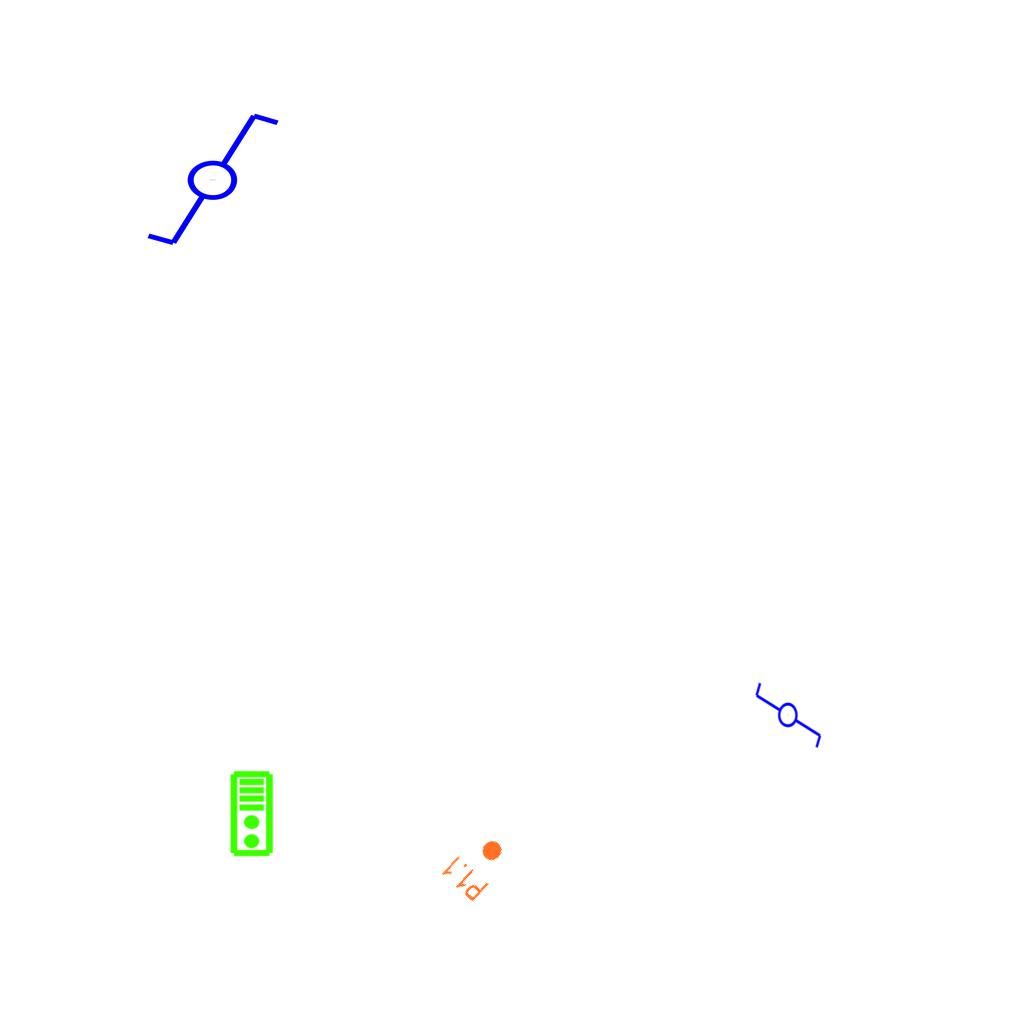Downlight_LED_Einbauleuchten_Flur: (438, 825, 516, 905)
Gegensprechanlage_mit_Video: (229, 770, 276, 858)
Wechselschalter: (126, 106, 283, 250), (753, 672, 825, 750)
